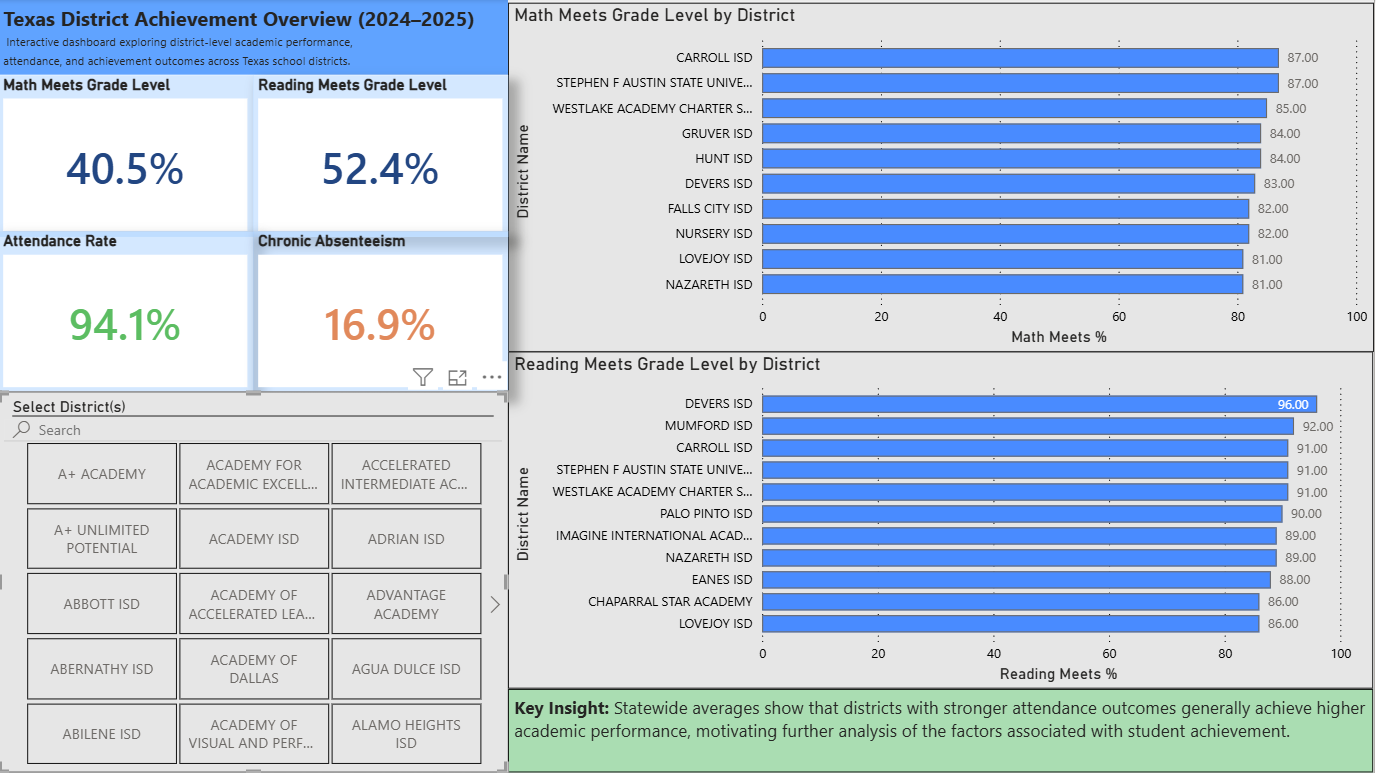

This screenshot's page, from the dashboard's own definition file:
{"tool":"powerbi","page":{"name":"Texas District Performance Overview","canvas":[1280,720],"ordinal":0},"visuals":[{"type":"textbox","box":[0,0,474.2,70.4],"z":0},{"type":"slicer","fields":{"Values":["district_analysis_clean.district_name"]},"box":[0,365.1,474.4,354.7],"z":1000},{"type":"clusteredBarChart","title":"Math Meets Grade Level by District","fields":{"Category":["district_analysis_clean.district_name"],"Y":["Avg(district_analysis_clean.math_meets_pct)"]},"box":[474.2,3.2,805.4,324.9],"z":2000},{"type":"barChart","title":"Reading Meets Grade Level by District","fields":{"Category":["district_analysis_clean.district_name"],"Y":["Avg(district_analysis_clean.reading_meets_pct)"]},"box":[474.2,328,805.4,301.8],"z":3000},{"type":"cardVisual","title":"Math Meets Grade Level","fields":{"Data":["district_analysis_clean.Math Meets %"]},"box":[0,70.9,237.2,150],"z":4000},{"type":"cardVisual","title":"Reading Meets Grade Level","fields":{"Data":["district_analysis_clean.Reading Meets %"]},"box":[237.2,70.9,237.2,150],"z":5000},{"type":"cardVisual","title":"Attendance Rate","fields":{"Data":["district_analysis_clean.Attendance Rate %"]},"box":[0,216.3,237.2,150],"z":6000},{"type":"cardVisual","title":"Chronic Absenteeism ","fields":{"Data":["district_analysis_clean.Chronic Absenteeism %"]},"box":[237.2,216.3,237.2,150],"z":7000},{"type":"textbox","box":[474.4,630.2,804.7,89.5],"z":7001}]}

Visuals, with their boxes in screenshot pixels (x1, y1, x2, y2), scaled from the page's 1280x720 canvas onto the 1376x773 screenshot:
textbox: [0,0,510,76]
slicer - district_analysis_clean.district_name: [0,392,510,772]
"Math Meets Grade Level by District" clusteredBarChart: [510,3,1375,352]
"Reading Meets Grade Level by District" barChart: [510,352,1375,676]
"Math Meets Grade Level" cardVisual: [0,76,255,237]
"Reading Meets Grade Level" cardVisual: [255,76,510,237]
"Attendance Rate" cardVisual: [0,232,255,393]
"Chronic Absenteeism " cardVisual: [255,232,510,393]
textbox: [510,677,1375,772]
